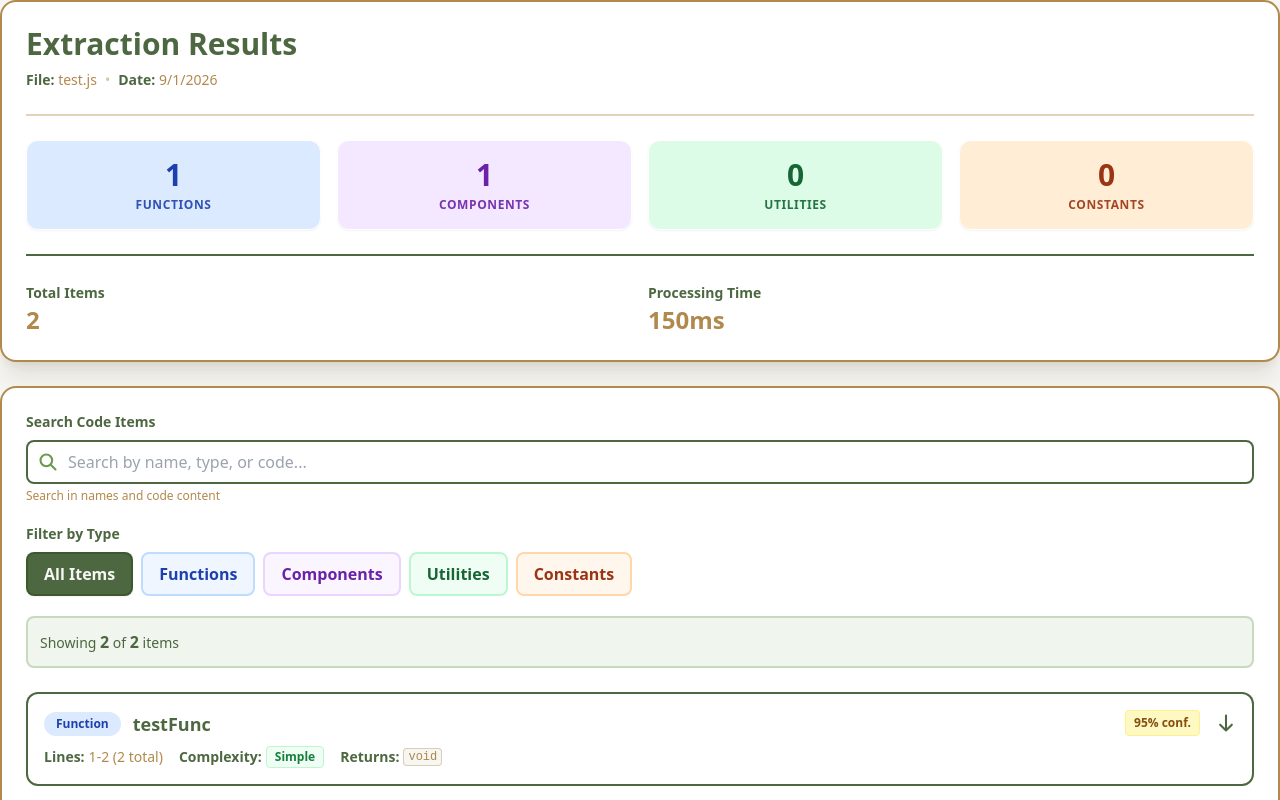
Test: ResultsDisplay › should show no results message when filtering returns nothing
Type "nonexistent" into the field with placeholder "Search by name, type, or code..." at (640,462), box [26,440,1254,484]
(page scrolled)
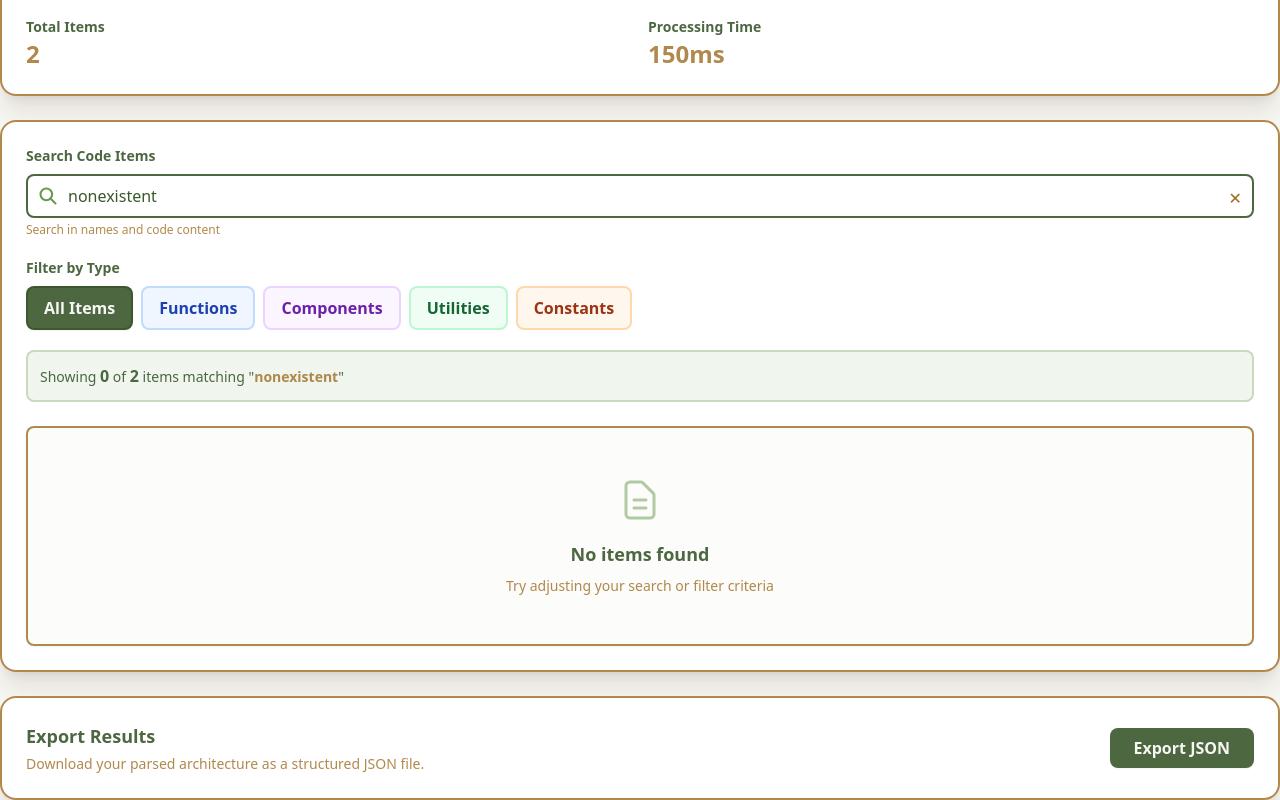
Result: the text "No items found" is shown at [571,542,710,566]
